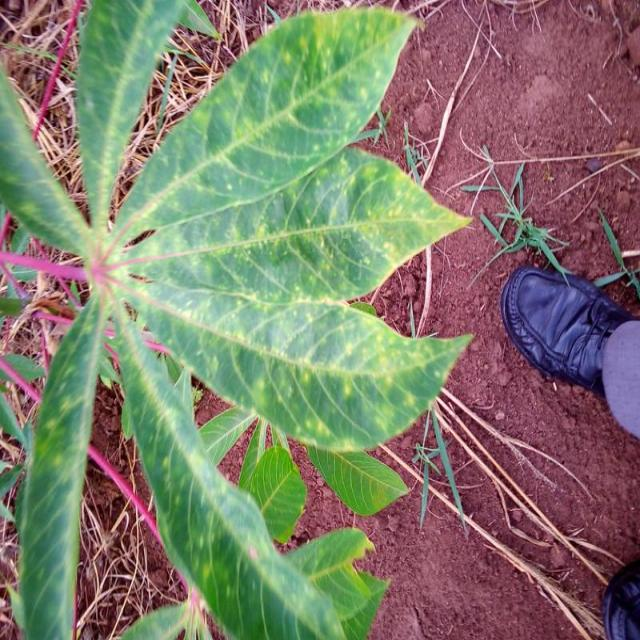cassava leaf: (2, 0, 476, 639)
